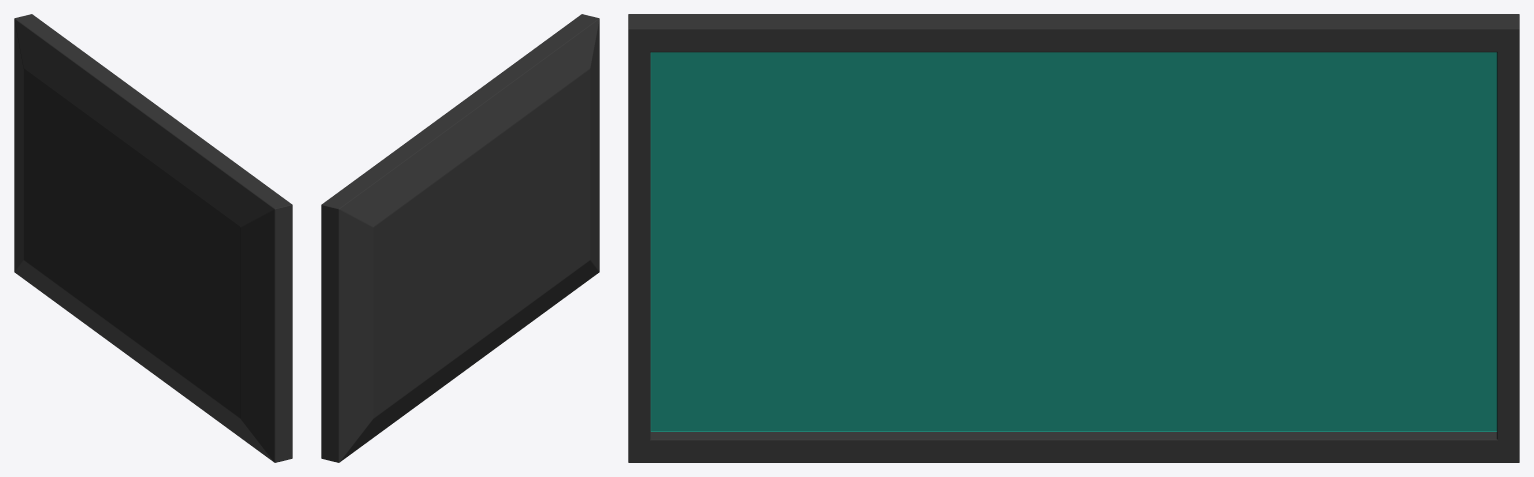
The model's file is SM_Display_02.fbx.
3 views of the same model, side by side, from view 1: azimuth 30°, elevation 25°; view 2: azimuth 150°, elevation 25°; view 3: azimuth 270°, elevation 25° (orthographic). The views are drawn at different scales.
Visible parts, largest first — view 1: SM_Display_02; view 2: SM_Display_02; view 3: SM_Display_02.
Part boxes in pixels (bbox=[...]): SM_Display_02: bbox=[14, 14, 292, 462]; SM_Display_02: bbox=[321, 14, 599, 462]; SM_Display_02: bbox=[628, 14, 1519, 462].
Bounding box in the file's own units: 5.89 × 87.42 × 47.01.
1 material, 1 textured.
